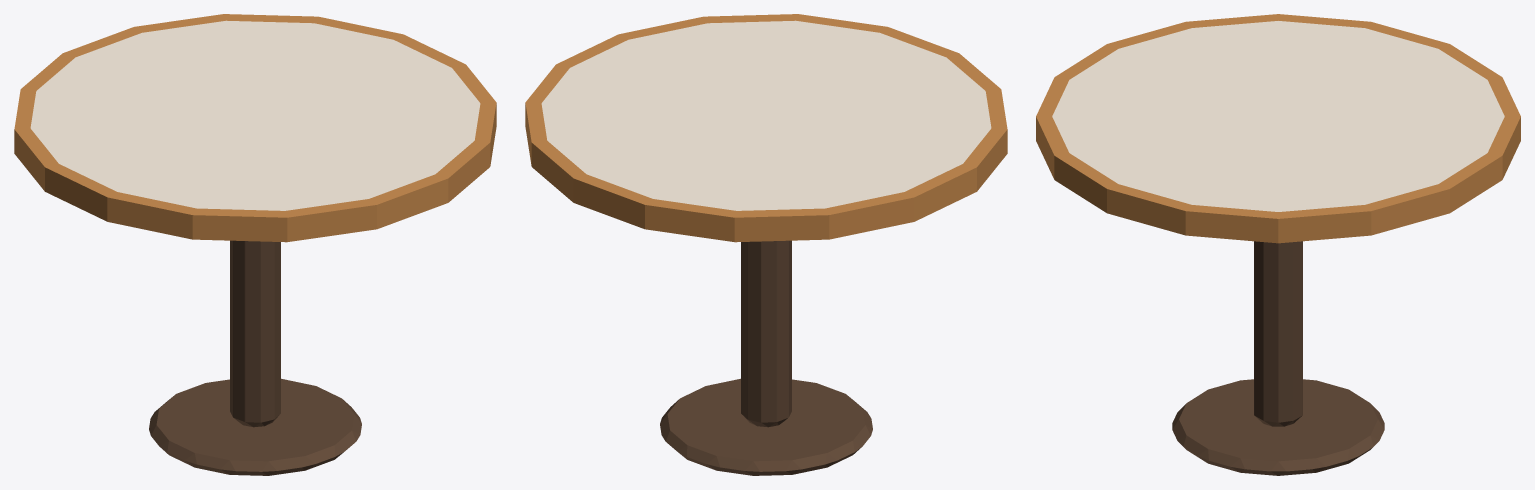
Rendered from CatCafe_Furniture_TableRound.glb.
3 renders of one model, left to right at view 1: azimuth 30°, elevation 25°; view 2: azimuth 150°, elevation 25°; view 3: azimuth 270°, elevation 25°, orthographic.
Parts seen in each view (by area): view 1: CatCafe_Furniture_TableRound; view 2: CatCafe_Furniture_TableRound; view 3: CatCafe_Furniture_TableRound.
Part boxes in pixels (x1,y1,x2,y2): CatCafe_Furniture_TableRound: (14, 14, 496, 475); CatCafe_Furniture_TableRound: (525, 14, 1007, 475); CatCafe_Furniture_TableRound: (1036, 14, 1520, 475).
Bounding box in the file's own units: 3.6 × 2.6 × 3.6.
1 material, 1 textured.
